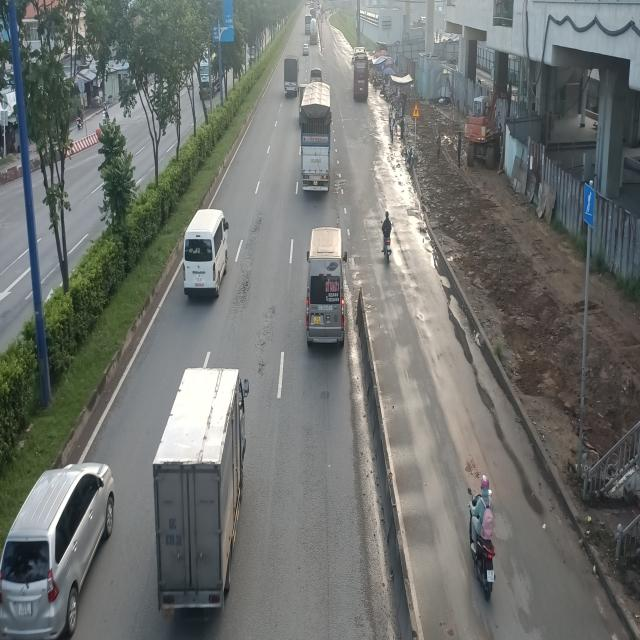car: (0, 461, 110, 638)
coach: (351, 49, 370, 100)
truck: (148, 370, 244, 624), (298, 84, 331, 195), (283, 56, 299, 100)
van: (303, 228, 346, 352), (182, 206, 230, 298)
